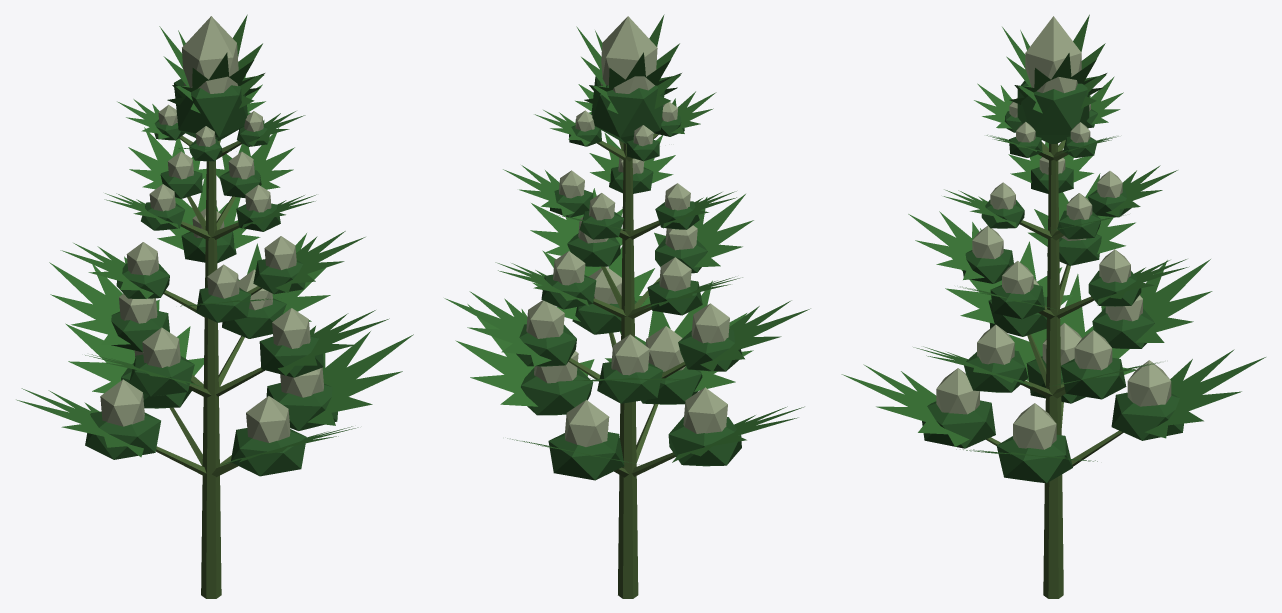
File: Weed_Plant_Stage4_Mature.glb
The picture shows the model from 3 angles, left to right: view 1: azimuth 30°, elevation 25°; view 2: azimuth 150°, elevation 25°; view 3: azimuth 270°, elevation 25°; orthographic projection.
Parts seen in each view (by area): view 1: Weed_Plant_Stage4_Mature; view 2: Weed_Plant_Stage4_Mature; view 3: Weed_Plant_Stage4_Mature.
Part boxes in pixels (bbox=[...]): Weed_Plant_Stage4_Mature: bbox=[16, 14, 413, 598]; Weed_Plant_Stage4_Mature: bbox=[444, 14, 810, 598]; Weed_Plant_Stage4_Mature: bbox=[841, 14, 1265, 598].
Bounding box in the file's own units: 0.8428 × 1.27 × 0.8497.
